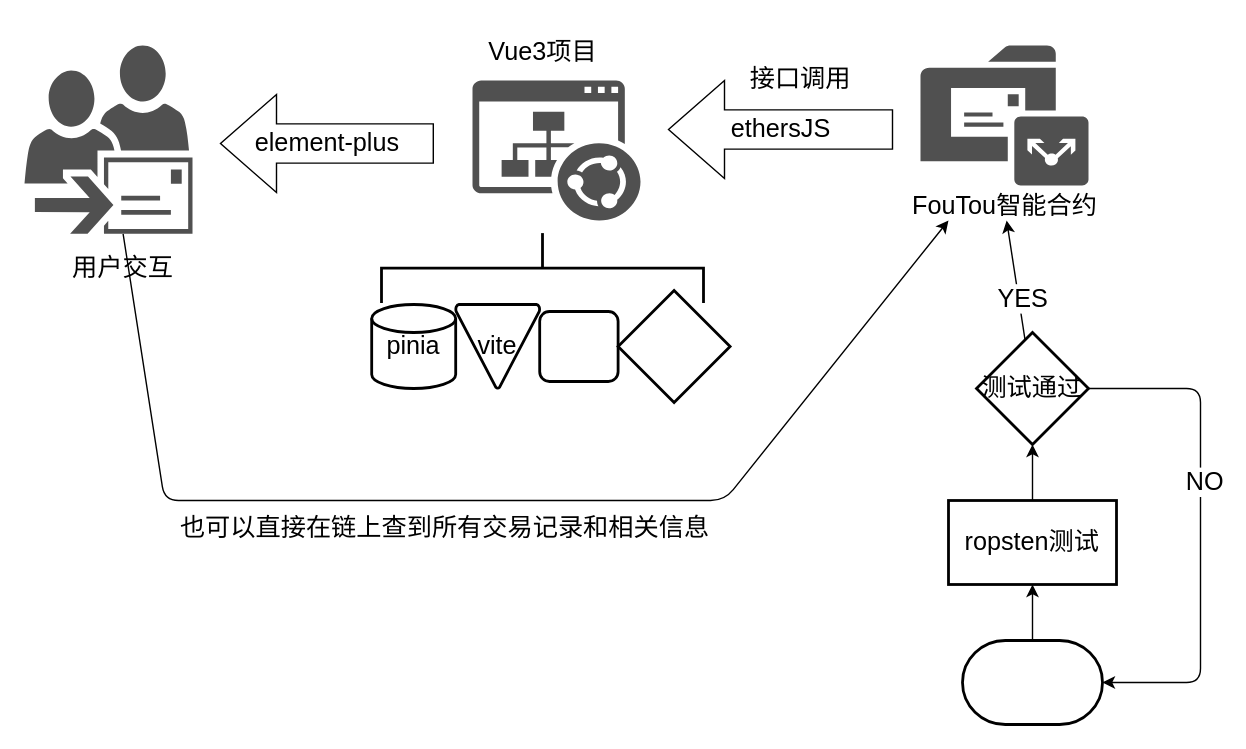
Image size: 1246x749. Some labels were removed from this diagram. Here are the shapes that lost their labels. From the top down, the centre of each, then its label:
At pixel 578 345: "TS".
At pixel 673 345: "router4".
At pixel 1031 681: "solidity开发".
